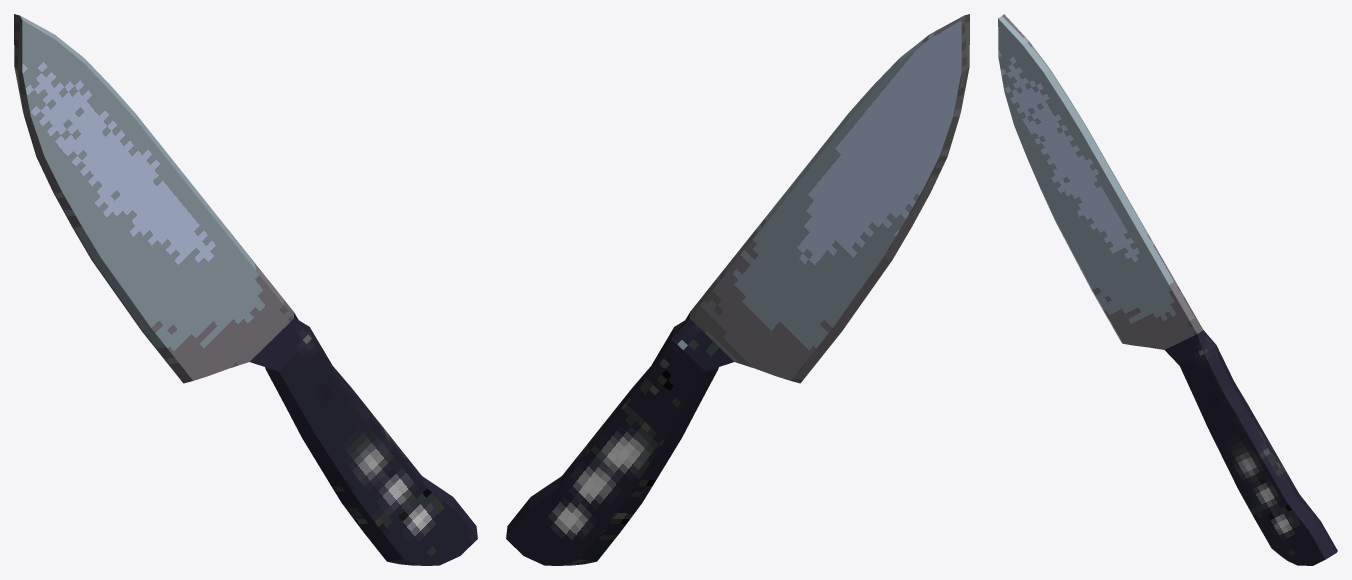
Rendered from knife.glb.
3 views of the same model, side by side, from view 1: azimuth 30°, elevation 25°; view 2: azimuth 150°, elevation 25°; view 3: azimuth 330°, elevation 25° (orthographic). The views are drawn at different scales.
Parts seen in each view (by area): view 1: Cube.001; view 2: Cube.001; view 3: Cube.001.
Boxes of the visible parts, <box> form: Cube.001: <box>14,14,477,565</box>; Cube.001: <box>506,14,969,565</box>; Cube.001: <box>998,14,1337,565</box>.
Size of the model in its own units: 3.05 by 4.11 by 0.1925.
Materials: 2 (2 with a texture image).
